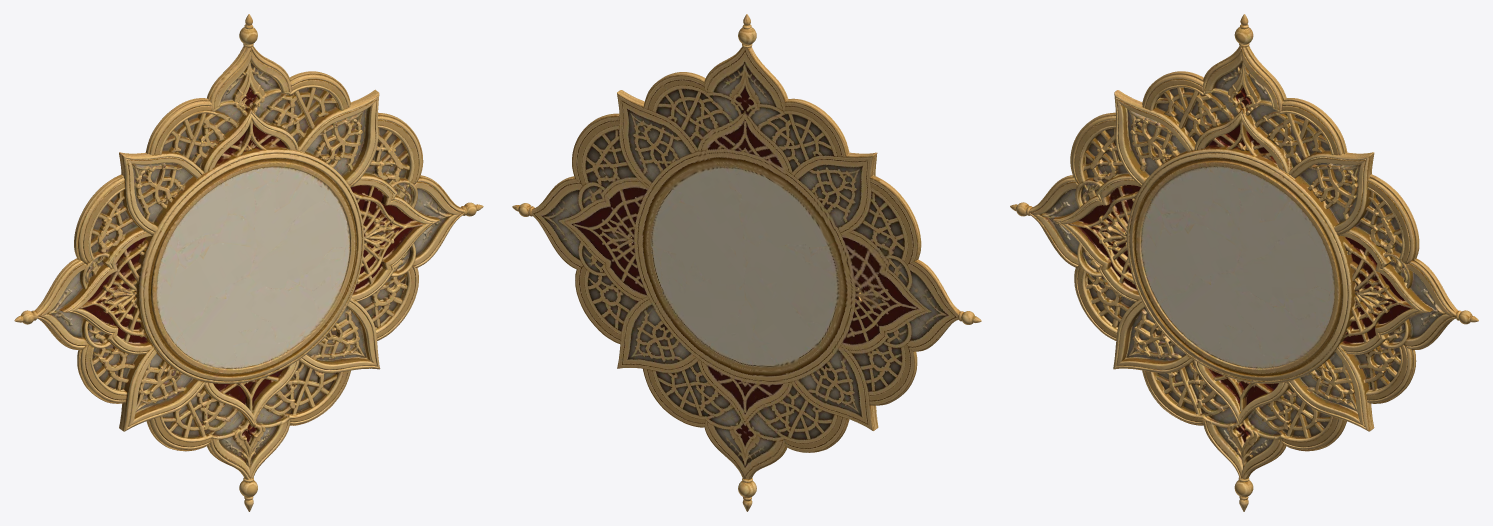
File: medallion.glb
3 views of the same model, side by side, from view 1: azimuth 30°, elevation 25°; view 2: azimuth 150°, elevation 25°; view 3: azimuth 330°, elevation 25° (orthographic).
Parts seen in each view (by area): view 1: mesh_0; view 2: mesh_0; view 3: mesh_0.
Boxes of the visible parts, x1,y1,x2,y2 form: mesh_0: (14, 14, 483, 511); mesh_0: (512, 14, 981, 511); mesh_0: (1010, 14, 1478, 511).
Bounding box in the file's own units: 1.88 × 1.9 × 0.0753.
1 material, 1 textured.
